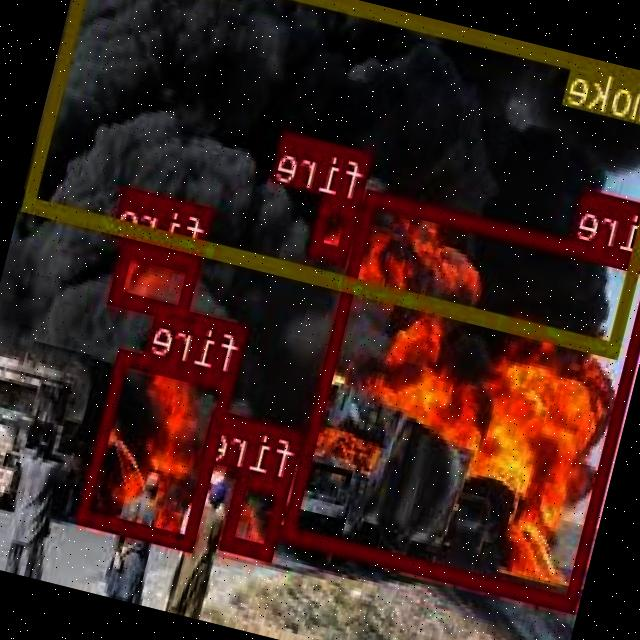fire: (283, 187, 640, 608), (78, 347, 238, 550), (112, 238, 204, 320), (222, 469, 294, 560), (310, 194, 362, 262)
smoke: (25, 0, 640, 353)
